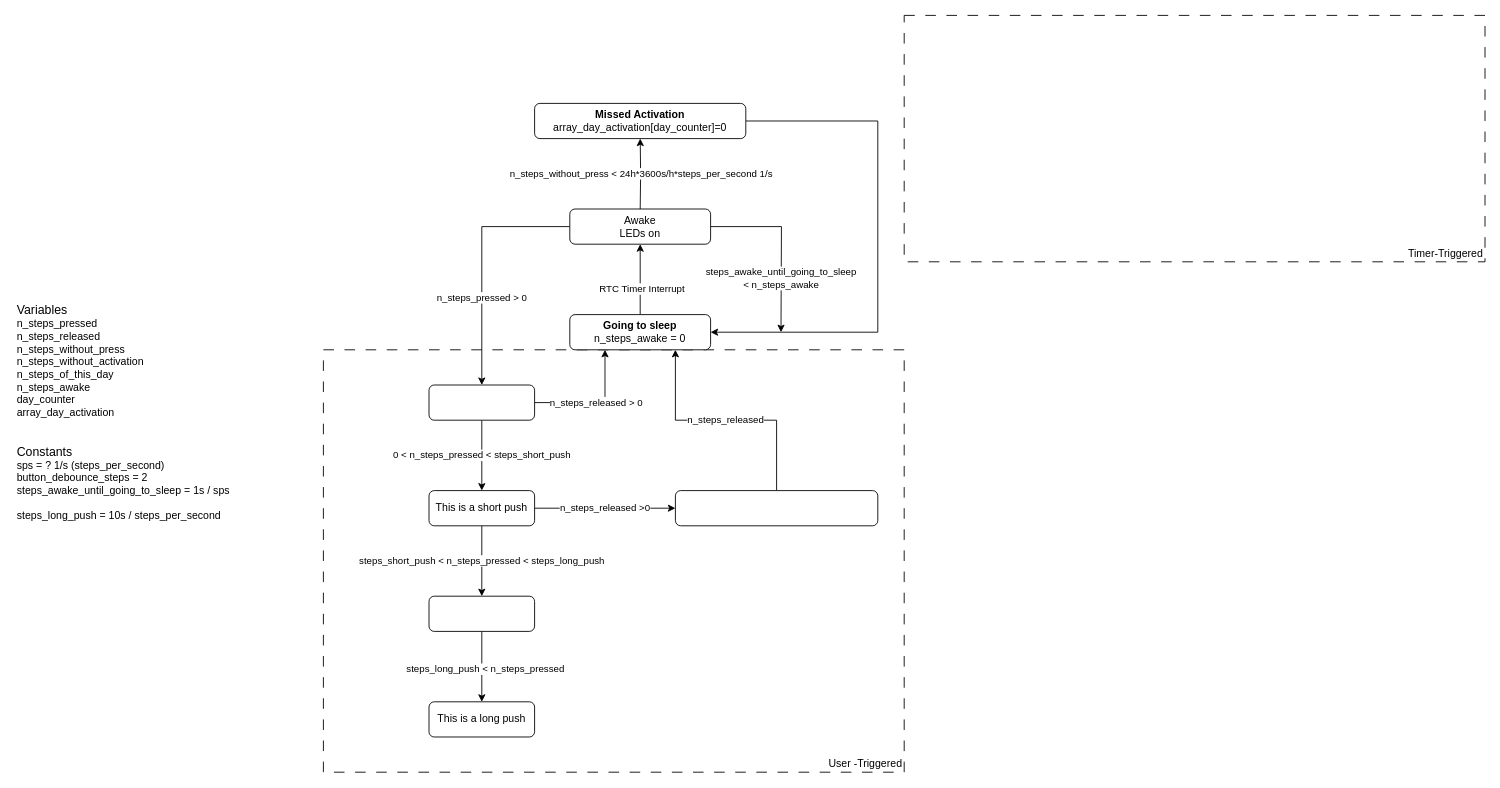
Image size: 1500x788. Some labels were removed from this diagram. The centre of each missing label's shape, as x and y in pixels:
"Accepted Activation array_day_activation[day_counter] = 1" belongs at point 776,508.
"Waiting to be a signifcant long push" belongs at point 481,613.
"Waiting to be a significant push" belongs at point 481,402.
